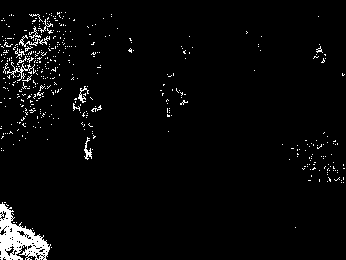person: (74, 84, 109, 160), (158, 69, 189, 122)
